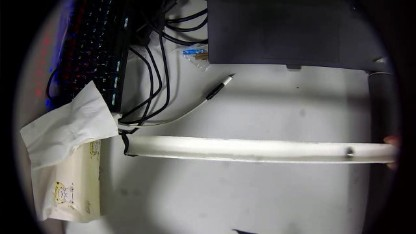gangzhu: (344, 146, 354, 159)
